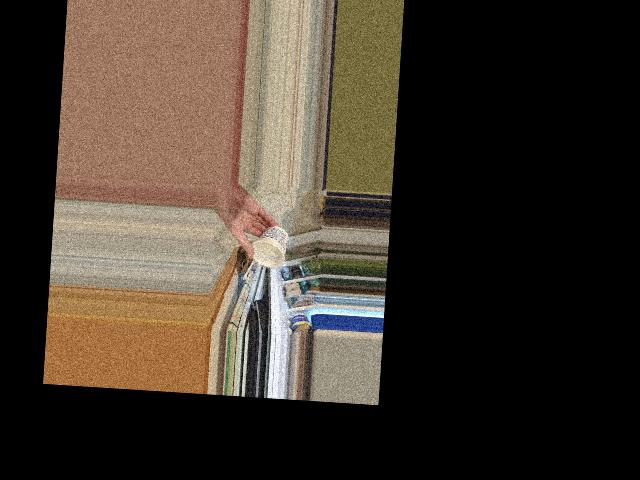cotage: (251, 225, 286, 268)
